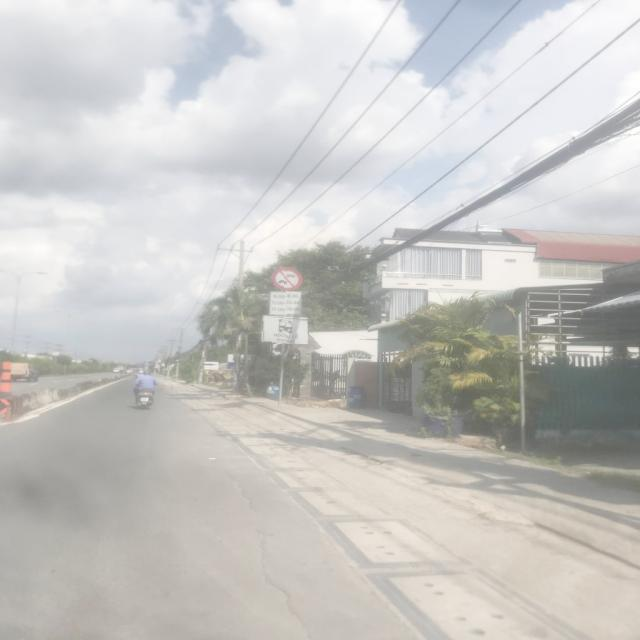107-cam-oto-khach-va-oto-tai: (270, 266, 304, 290)
